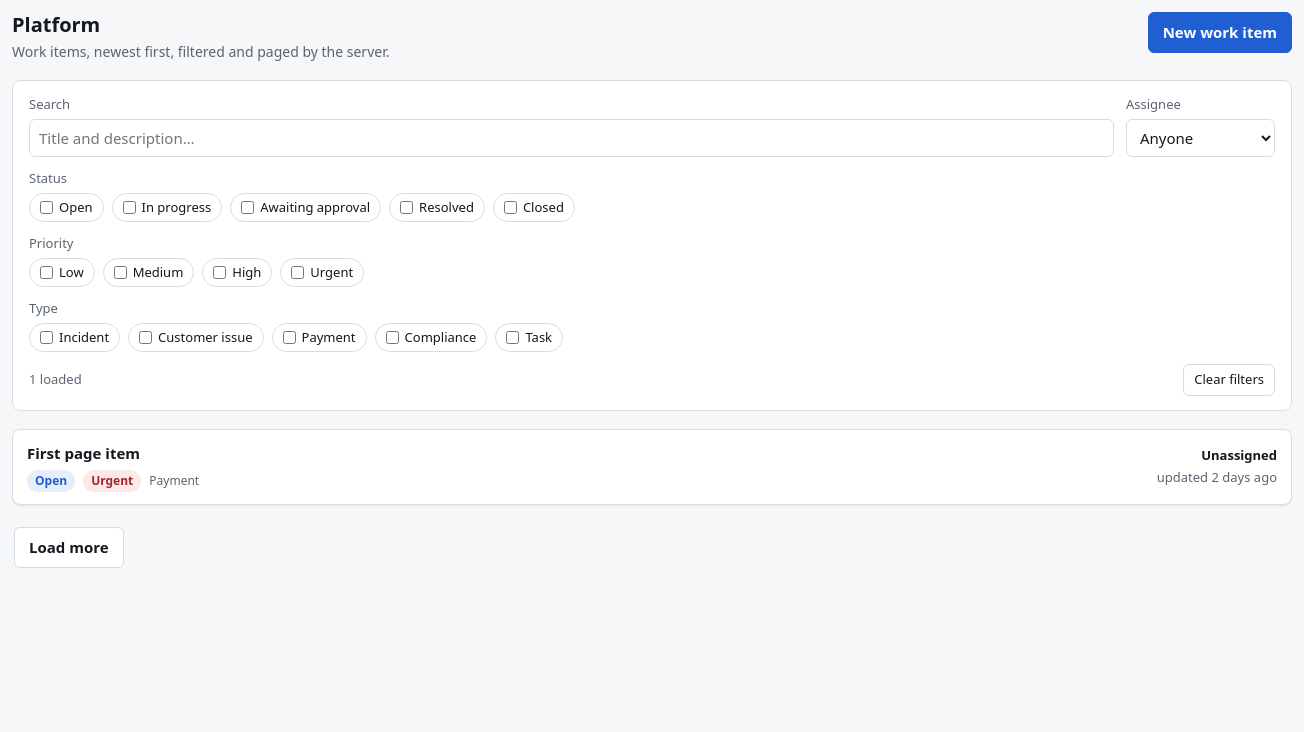
Test: ItemListPage › pages with the cursor the server issued
Check: the text "First page item" is shown, box [27,442,140,462]
Click the button "Load more": (69, 547) [14,527,124,568]
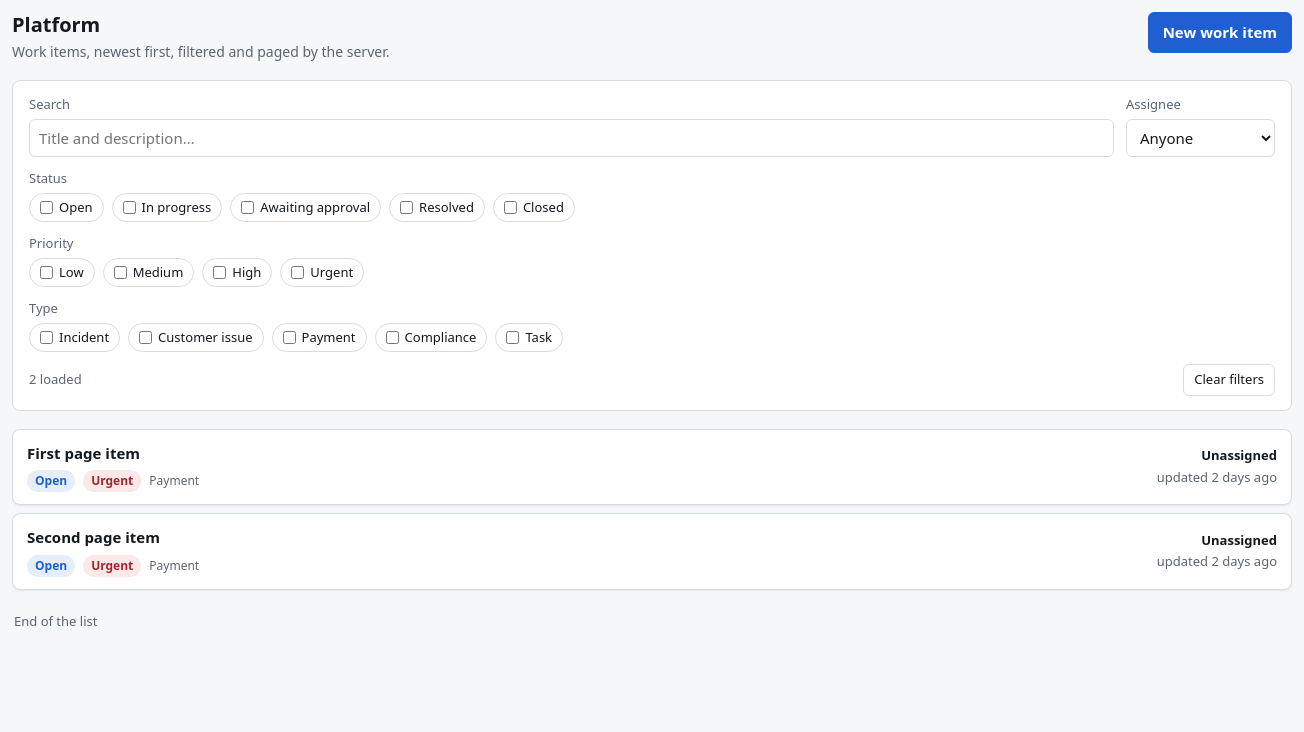
Check: the text "First page item" is shown, box [27,442,140,462]
Check: the text "Second page item" is shown, box [27,527,160,547]
